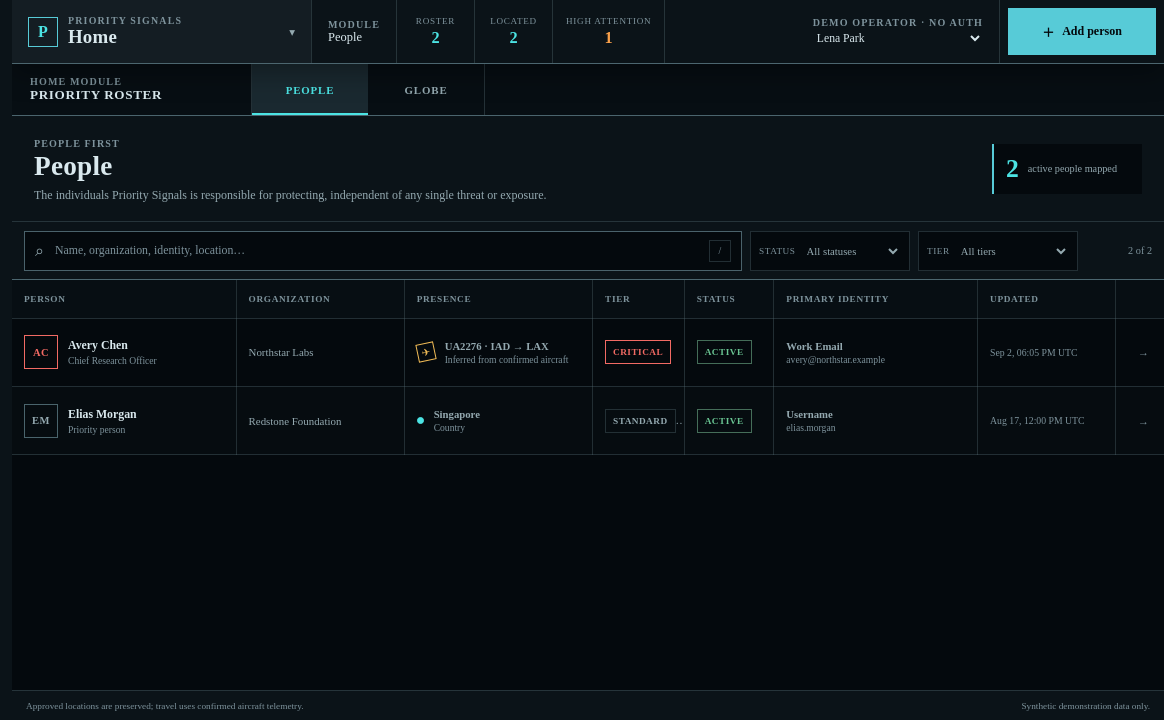
Scenario: People workspace › shows confirmed travel without replacing the approved location
This screenshot has width=1164, height=720.
Expected: the text "UA2276 · IAD → LAX" is shown, [445,340,549,352]
Expected: the text "Inferred from confirmed aircraft" is shown, [445,354,580,365]
Click the button named "View Avery Chen" at (1144,352), box [1128,336,1160,368]
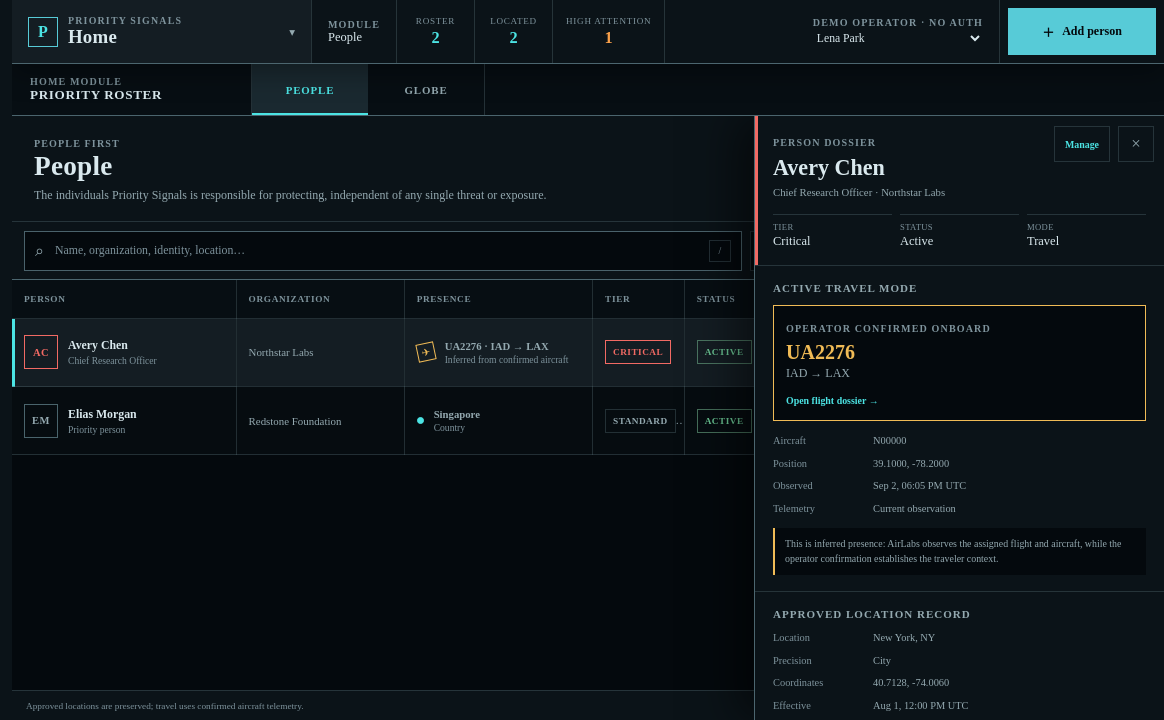
Now the heading "Active travel mode" is shown, box [773,282,917,294]
Now the text "New York, NY" is shown, box [873,632,935,643]
